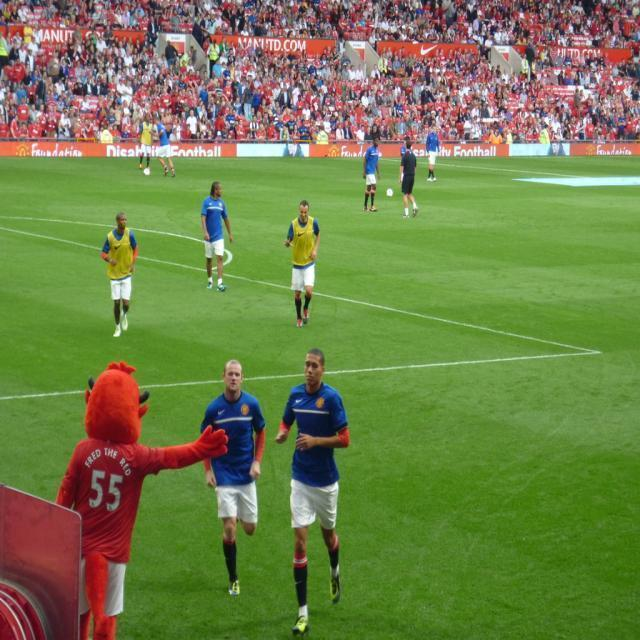ball: (386, 189, 393, 198)
